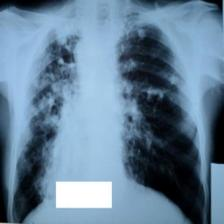tuberculosis: (6, 16, 209, 224)
